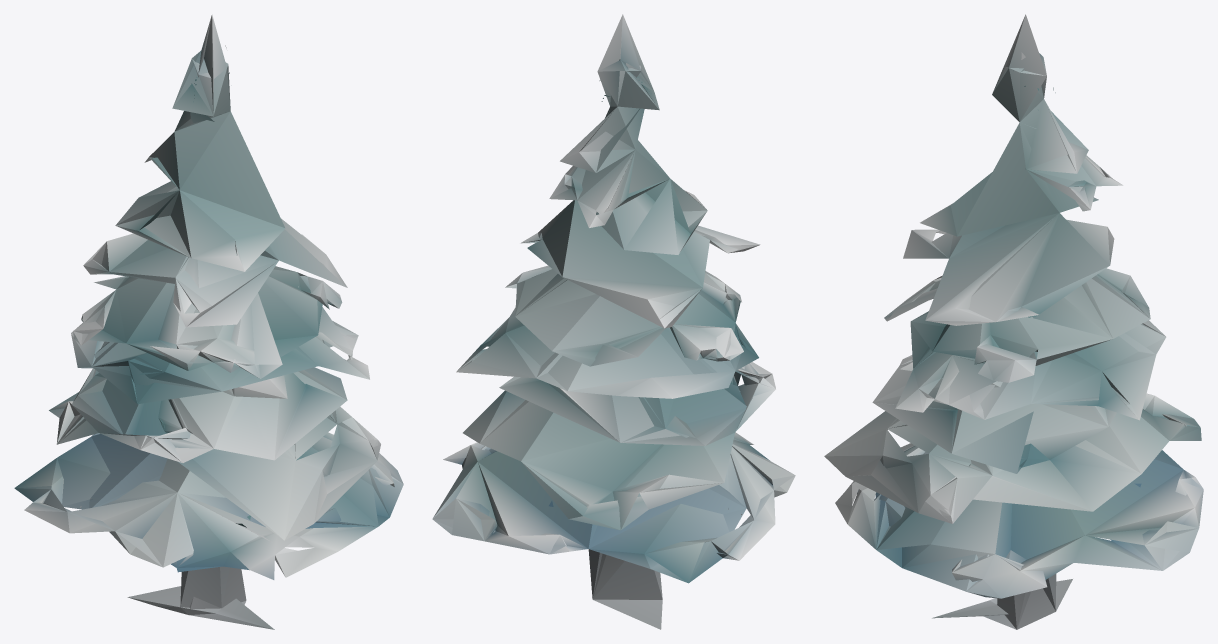
The model's file is fir_lod.glb.
The picture shows the model from 3 angles, left to right: view 1: azimuth 30°, elevation 25°; view 2: azimuth 150°, elevation 25°; view 3: azimuth 270°, elevation 25°; orthographic projection.
Parts seen in each view (by area): view 1: fir_lod; view 2: fir_lod; view 3: fir_lod.
Boxes of the visible parts, <box> form: fir_lod: <box>14,14,403,629</box>; fir_lod: <box>432,14,795,629</box>; fir_lod: <box>824,14,1203,629</box>.
Bounding box in the file's own units: 0.9237 × 1.6 × 0.9154.
